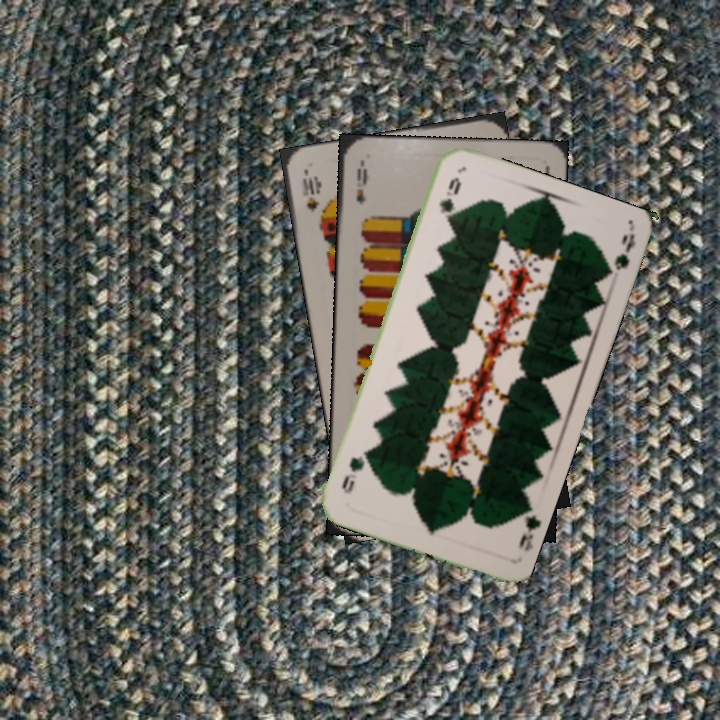E9: (352, 160, 370, 208)
G9: (435, 173, 464, 224), (514, 503, 542, 554)
S10: (298, 169, 322, 215)
